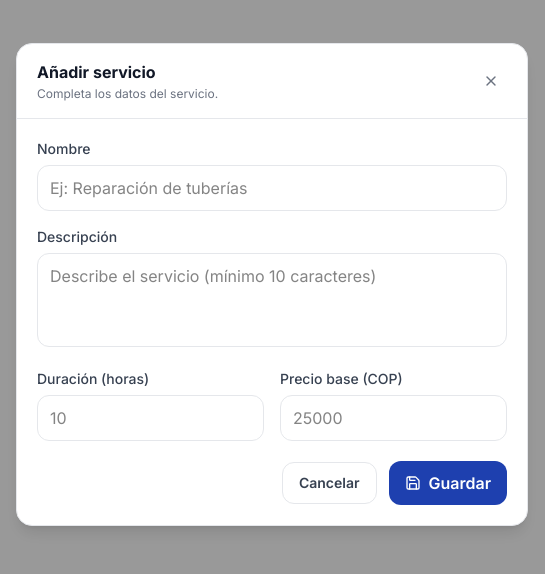
ServiceModal › validaciones › error si la duración es menor a 1
Type "Nombre OK" into the field with placeholder "Ej: Reparación de tuberías" at x=272, y=188, box [37, 164, 507, 210]
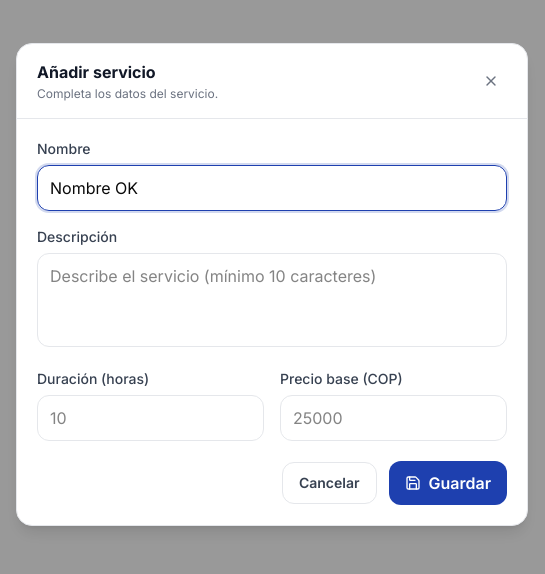
Type "Descripción suficientemente larga" into the text box with placeholder "Describe el servicio (mínimo 10 caracteres)" at x=272, y=300, box [37, 252, 507, 346]
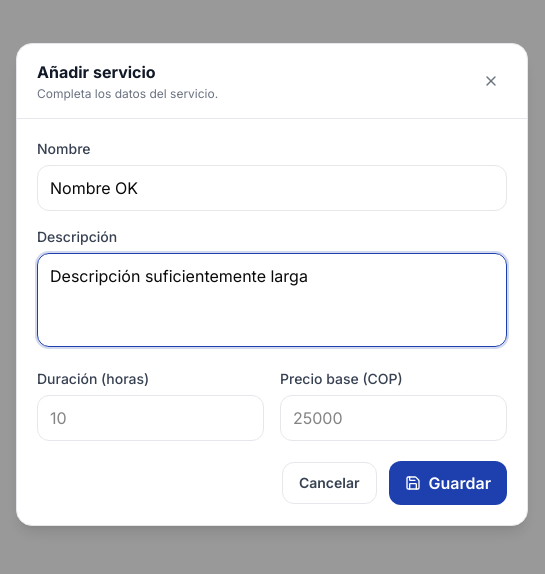
Type "0" into the number field with placeholder "10" at x=150, y=418, box [37, 394, 264, 440]
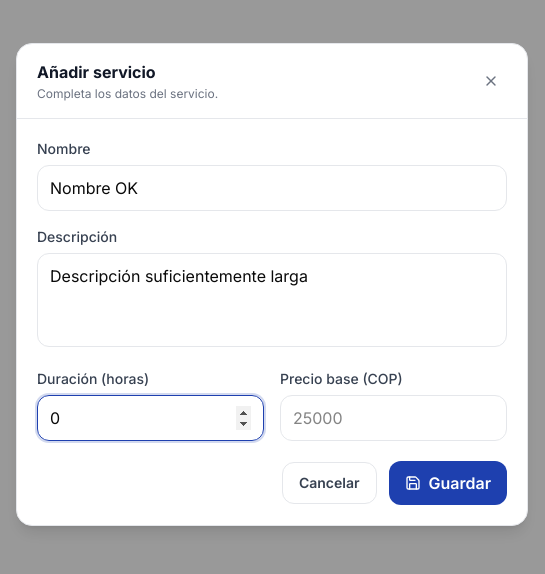
Type "20000" into the number field with placeholder "25000" at x=394, y=418, box [280, 394, 507, 440]
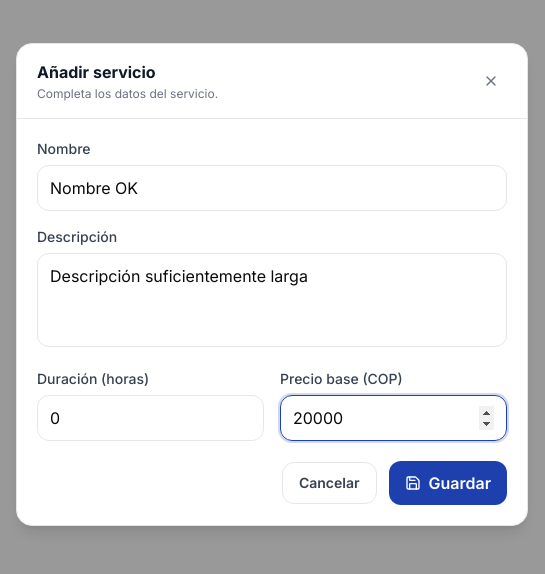
Click the button "Guardar" at x=448, y=482, box [388, 460, 507, 504]
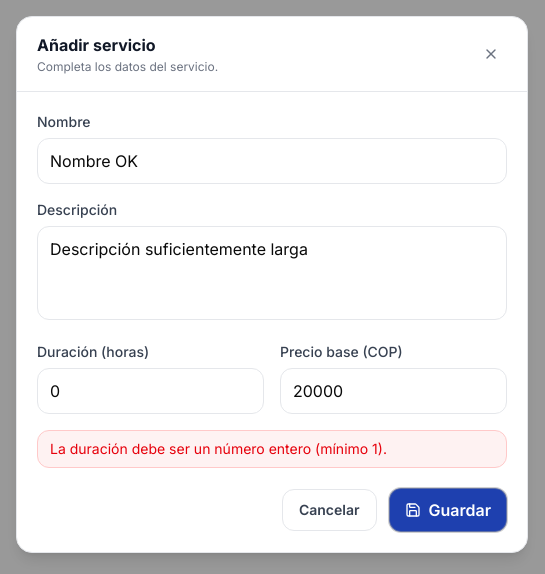
Expected: the message reads "La duración debe ser un número entero (mínimo 1).", [50, 440, 387, 456]
